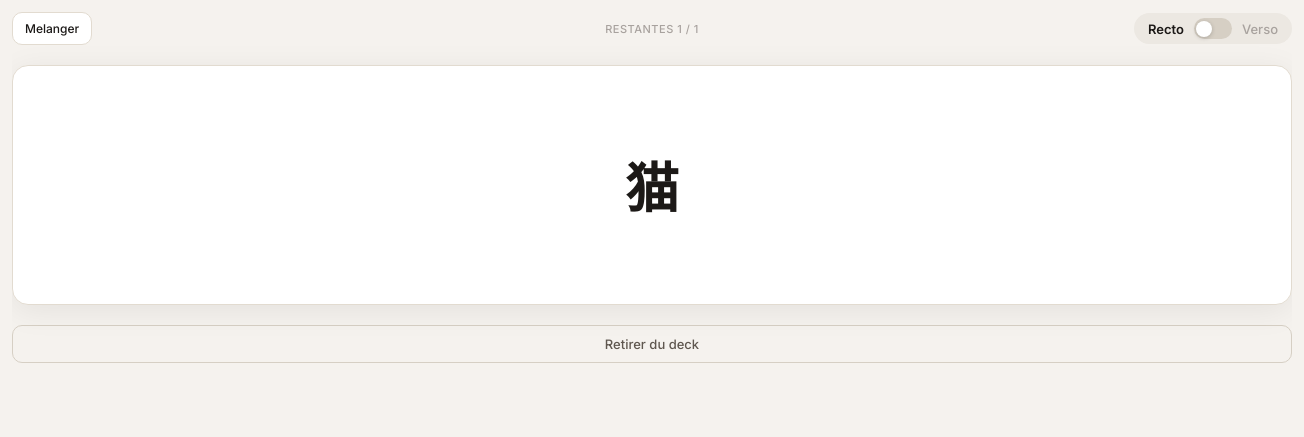
Test: ClassicMode regressions › shows the intelligent empty state when the smart deck is finished
Press the mouse on the text "猫" at (652, 185), box [625,153,679,217]
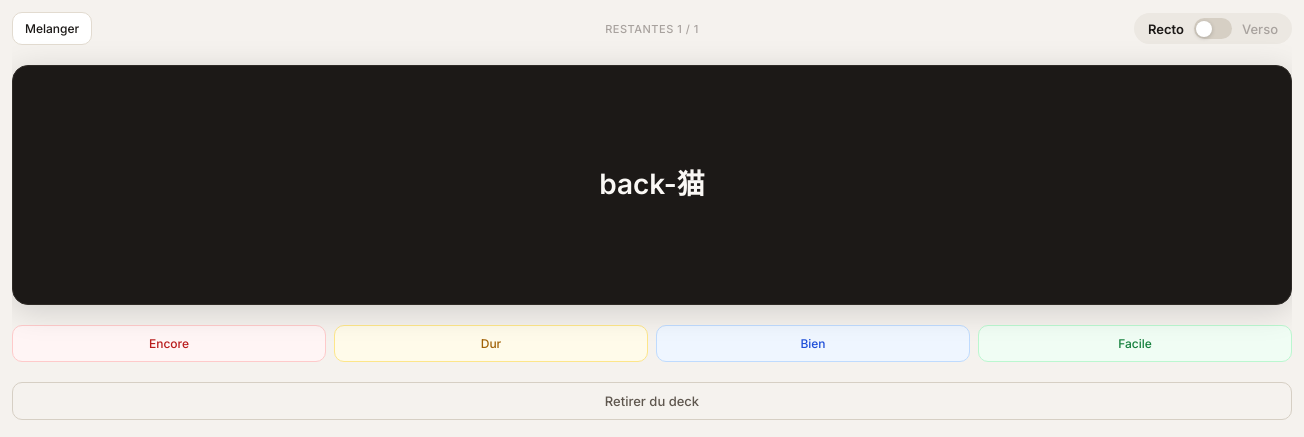
Click the button "Bien".
click(813, 344)  # box [656,325,970,362]
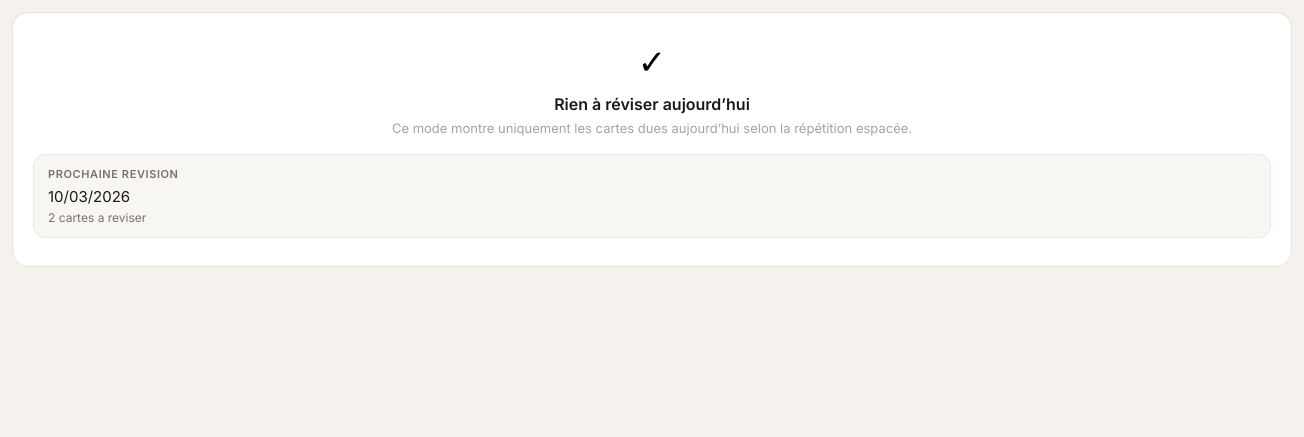
Expected: the text "Rien à réviser aujourd’hui" is shown, [554,94,750,114]
Expected: the text "10/03/2026" is shown, [48,187,130,206]
Expected: the text "2 cartes a reviser" is shown, [48,210,146,225]
